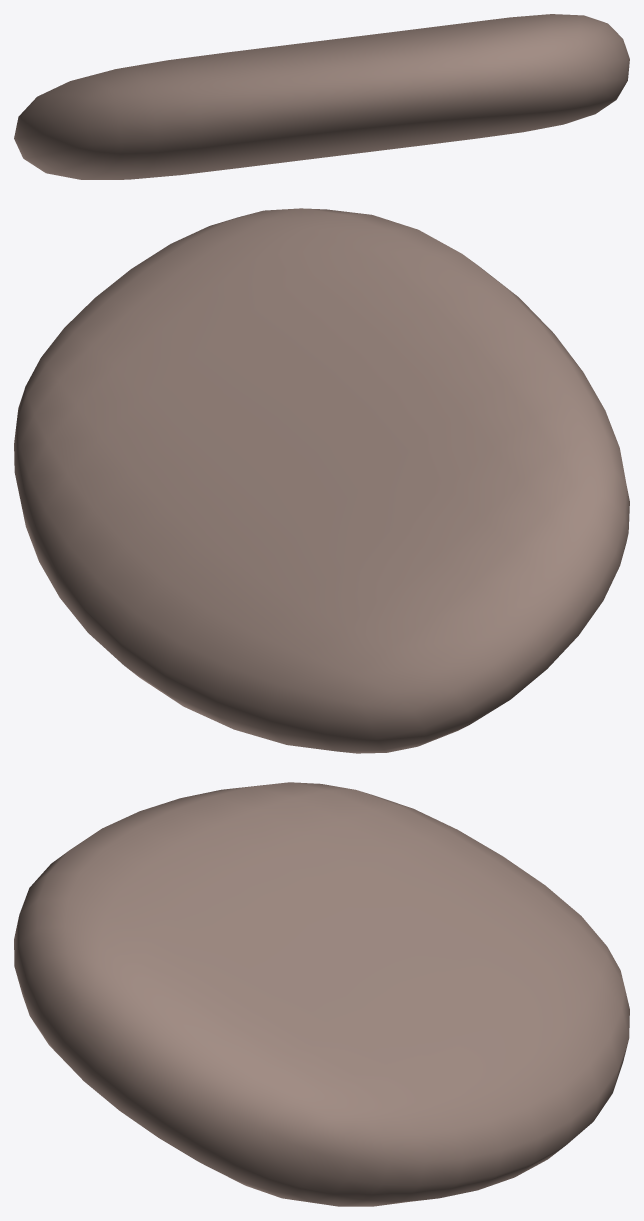
The model's file is Piedraque.fbx.
3 views of the same model, one above another, from view 1: azimuth 30°, elevation 25°; view 2: azimuth 150°, elevation 25°; view 3: azimuth 270°, elevation 25° (orthographic). The views are drawn at different scales.
Parts seen in each view (by area): view 1: Circle.010; view 2: Circle.010; view 3: Circle.010.
Part boxes in pixels (bbox=[...]): Circle.010: bbox=[14, 14, 629, 179]; Circle.010: bbox=[14, 208, 629, 753]; Circle.010: bbox=[14, 782, 629, 1206].
Size of the model in its own units: 412 by 183 by 348.
